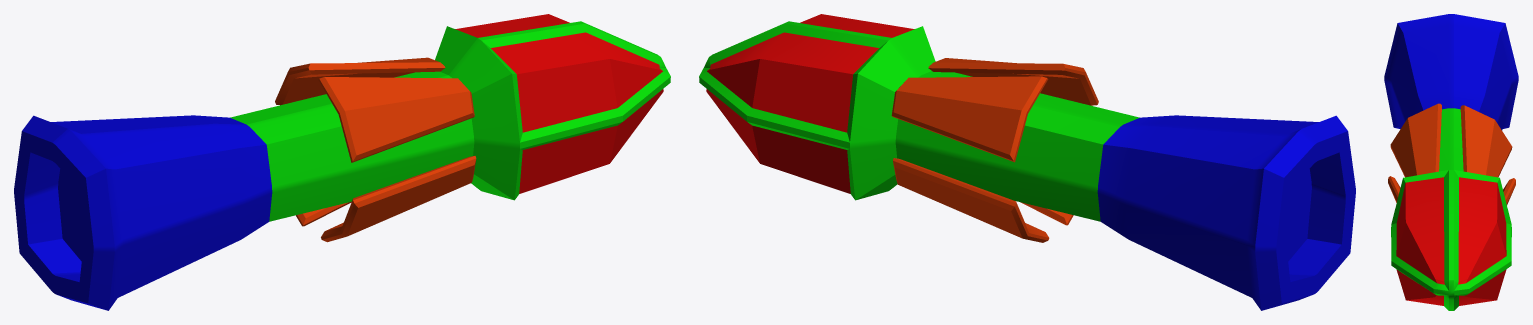
Rendered from Rocket Enemy.fbx.
3 renders of one model, left to right at view 1: azimuth 30°, elevation 25°; view 2: azimuth 150°, elevation 25°; view 3: azimuth 270°, elevation 25°, orthographic. The views are drawn at different scales.
Visible parts, largest first — view 1: Rocket_Enemy2_low1_Panel3_low; view 2: Rocket_Enemy2_low1_Panel3_low; view 3: Rocket_Enemy2_low1_Panel3_low.
Part boxes in pixels (x1,y1,x2,y2): Rocket_Enemy2_low1_Panel3_low: [14, 14, 670, 310]; Rocket_Enemy2_low1_Panel3_low: [699, 14, 1355, 310]; Rocket_Enemy2_low1_Panel3_low: [1384, 14, 1518, 310].
Bounding box in the file's own units: 1.55 × 0.4092 × 0.3952.
